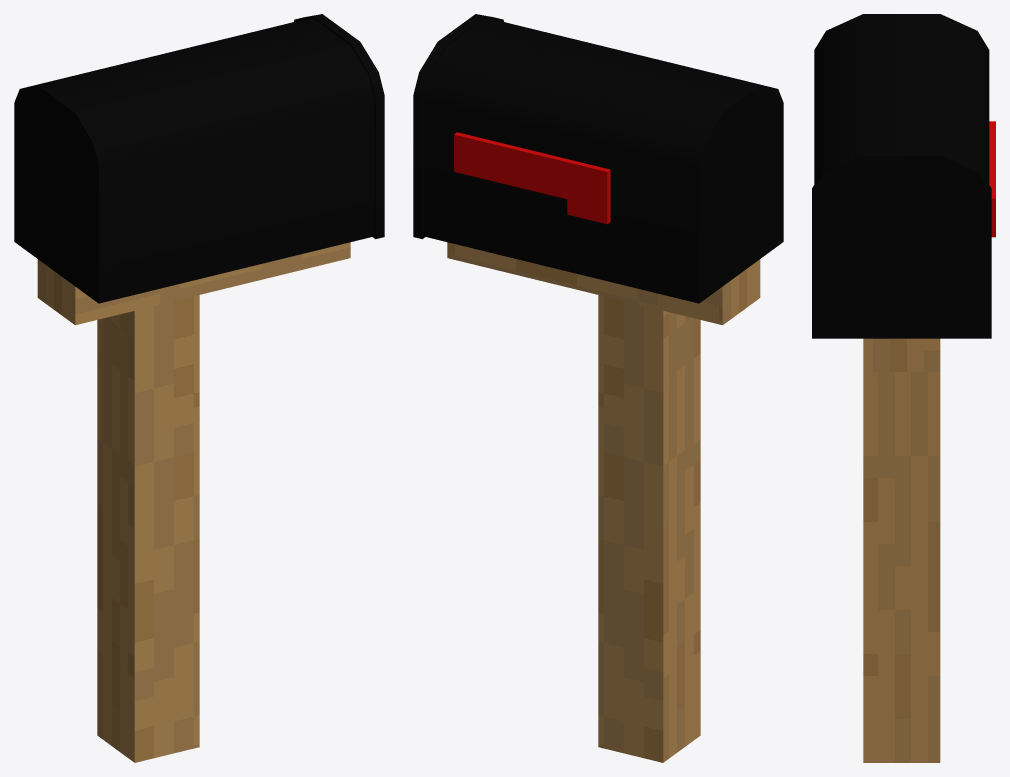
Rendered from Mailbox.fbx.
3 views of the same model, side by side, from view 1: azimuth 30°, elevation 25°; view 2: azimuth 150°, elevation 25°; view 3: azimuth 270°, elevation 25° (orthographic). The views are drawn at different scales.
Parts seen in each view (by area): view 1: Cube_1; view 2: Cube_1; view 3: Cube_1.
Part boxes in pixels (left/top/right/bottom): Cube_1: left=14, top=14, right=384, bottom=762; Cube_1: left=413, top=14, right=783, bottom=762; Cube_1: left=812, top=14, right=995, bottom=762.
Bounding box in the file's own units: 132 × 295 × 71.28.
1 material, 1 textured.
